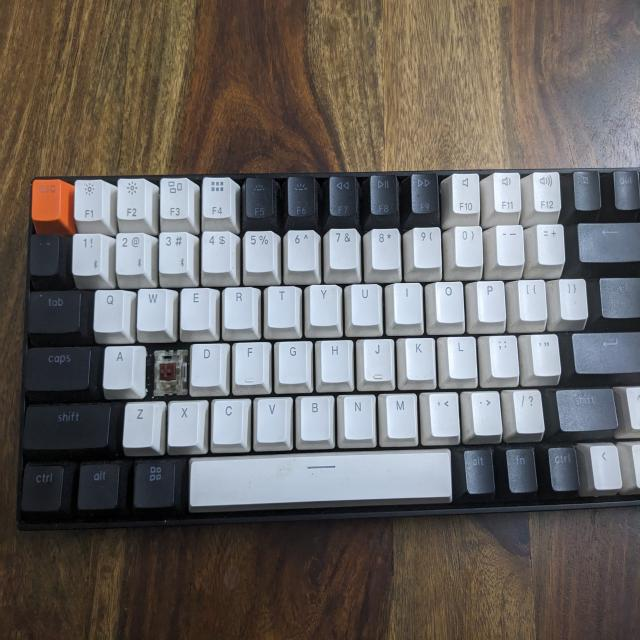C: (150, 348, 184, 398)
